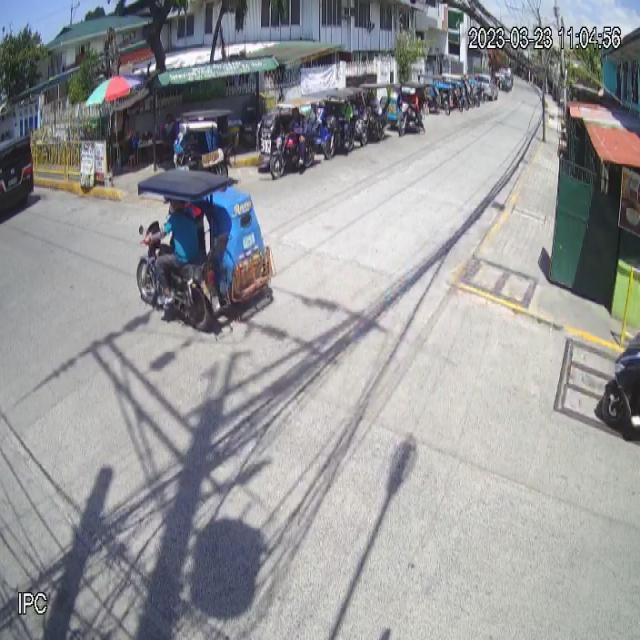Tricycle: (134, 167, 278, 335)
